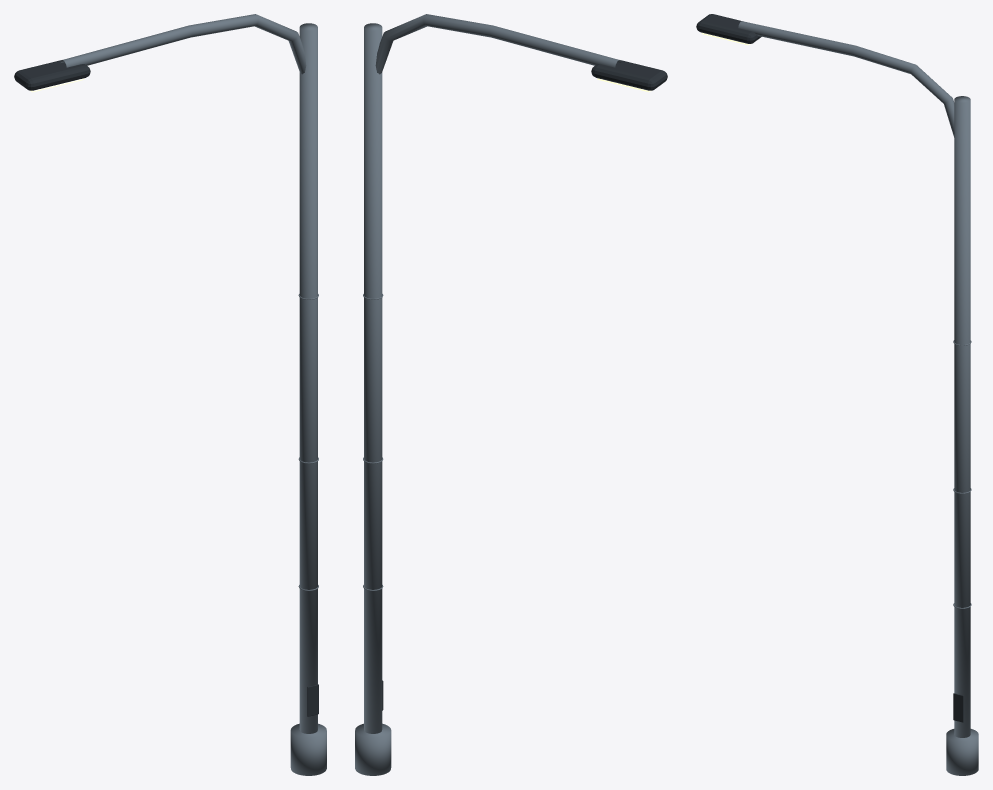
Rendered from street-lamp.glb.
3 renders of one model, left to right at view 1: azimuth 30°, elevation 25°; view 2: azimuth 150°, elevation 25°; view 3: azimuth 330°, elevation 25°, orthographic. The views are drawn at different scales.
Parts seen in each view (by area): view 1: Night lamp steel, Night lamp housing; view 2: Night lamp steel, Night lamp housing; view 3: Night lamp steel, Night lamp housing.
Boxes of the visible parts, <box> form: Night lamp steel: <box>60,14,326,775</box>; Night lamp housing: <box>14,60,318,716</box>; Night lamp steel: <box>355,14,621,775</box>; Night lamp housing: <box>382,60,667,710</box>; Night lamp steel: <box>738,21,978,775</box>; Night lamp housing: <box>696,14,963,722</box>.
Bounding box in the file's own units: 3.5 × 8.48 × 0.36.
